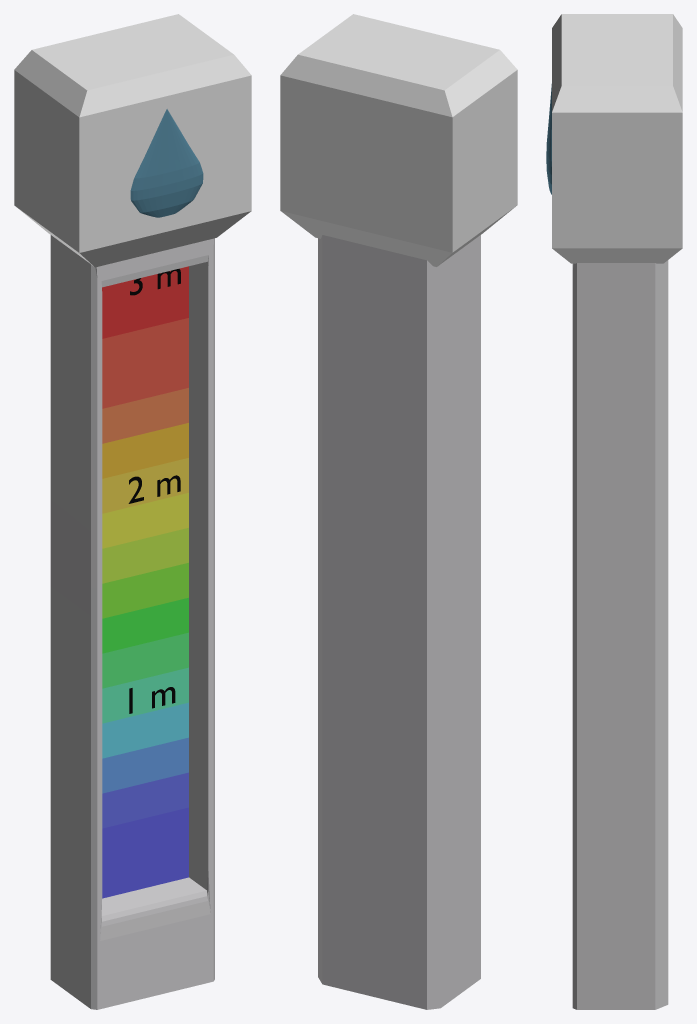
The model's file is artefact2.fbx.
3 views of the same model, side by side, from view 1: azimuth 30°, elevation 25°; view 2: azimuth 150°, elevation 25°; view 3: azimuth 270°, elevation 25° (orthographic).
Visible parts, largest first — view 1: Cube, Cube.001, Cone; view 2: Cube, Cube.001; view 3: Cube, Cube.001, Cone.
Boxes of the visible parts, box(x1,y1,x2,y2) form: Cube: box(50, 235, 214, 1009); Cube.001: box(14, 14, 251, 267); Cone: box(130, 109, 203, 217); Cube: box(318, 235, 480, 1009); Cube.001: box(280, 14, 517, 266); Cube: box(572, 260, 668, 1009); Cube.001: box(552, 14, 682, 263); Cone: box(546, 84, 551, 194).
Size of the model in its own units: 574 by 2949 by 392.
